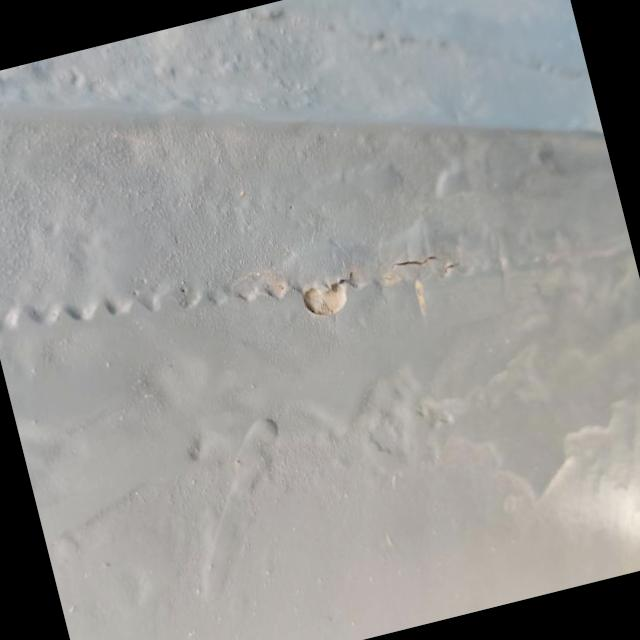crack: (263, 212, 477, 354)
